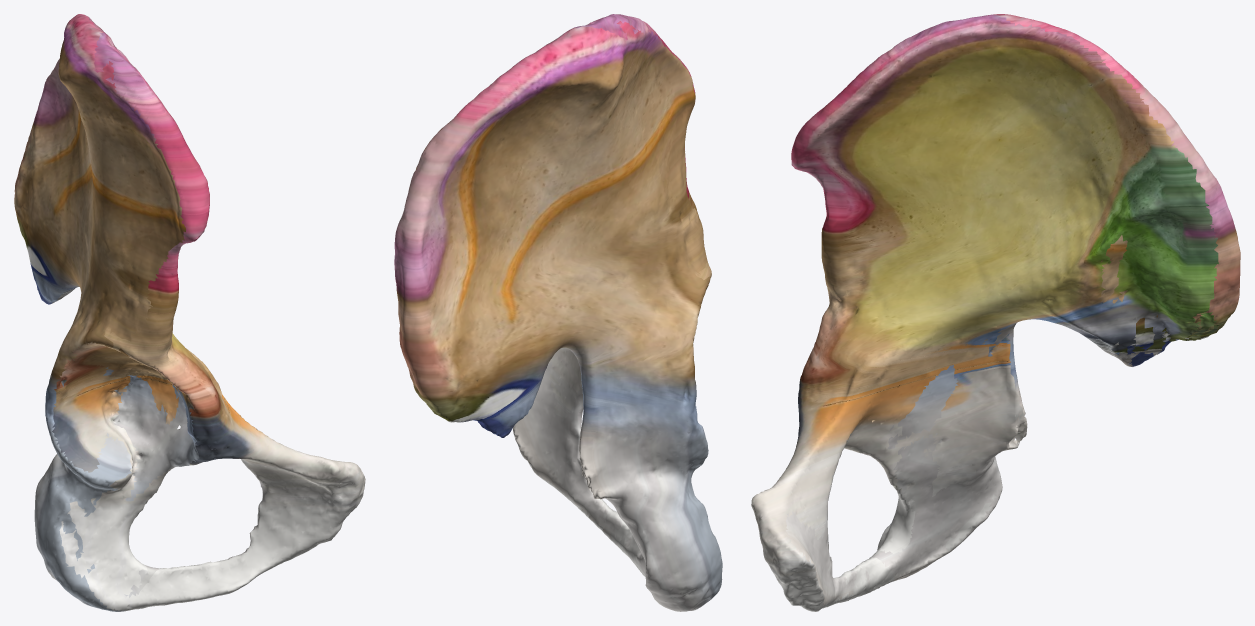
File: kosc-biodrowa.glb
3 views of the same model, side by side, from view 1: azimuth 30°, elevation 25°; view 2: azimuth 150°, elevation 25°; view 3: azimuth 270°, elevation 25° (orthographic). The views are drawn at different scales.
Size of the model in its own units: 0.0955 by 0.1926 by 0.147.
2 materials, 1 textured.
